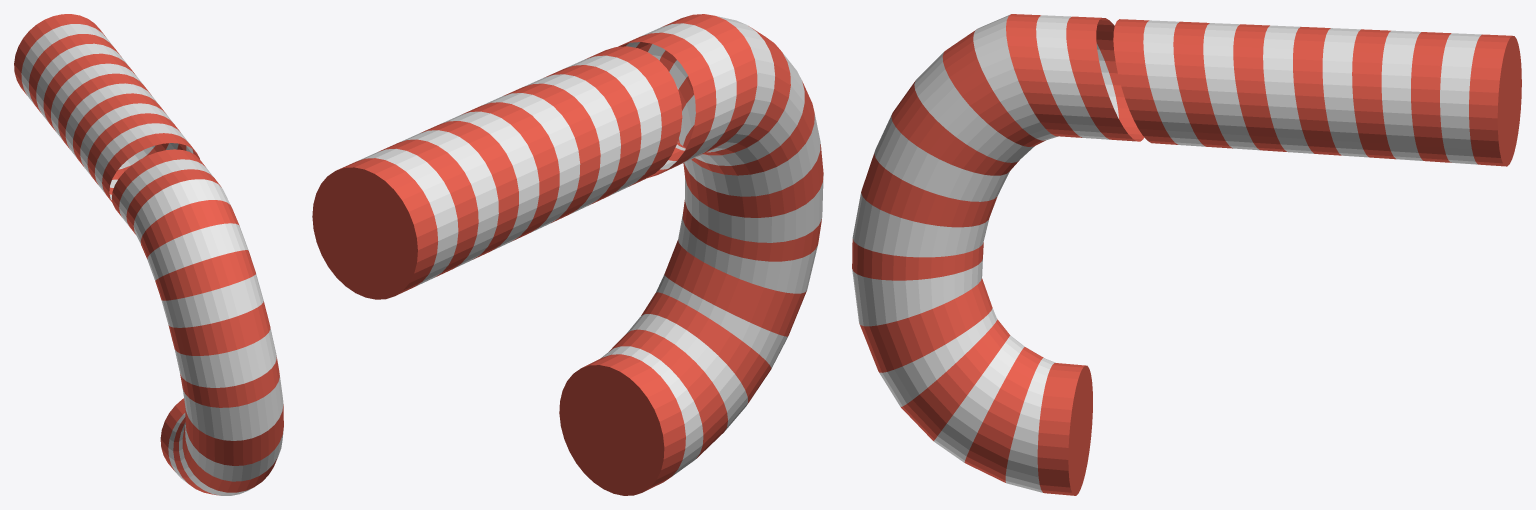
Rendered from Breakable Candy Cane.fbx.
3 renders of one model, left to right at view 1: azimuth 30°, elevation 25°; view 2: azimuth 150°, elevation 25°; view 3: azimuth 270°, elevation 25°, orthographic. The views are drawn at different scales.
Parts seen in each view (by area): view 1: polySurface1, polySurface2; view 2: polySurface1, polySurface2; view 3: polySurface1, polySurface2.
Part boxes in pixels (<box>): polySurface1: <box>112,149,283,495</box>; polySurface2: <box>14,14,199,202</box>; polySurface1: <box>559,14,823,495</box>; polySurface2: <box>312,46,682,299</box>; polySurface1: <box>852,14,1144,495</box>; polySurface2: <box>1113,19,1521,166</box>.
Size of the model in its own units: 3.12 by 7 by 9.29.
